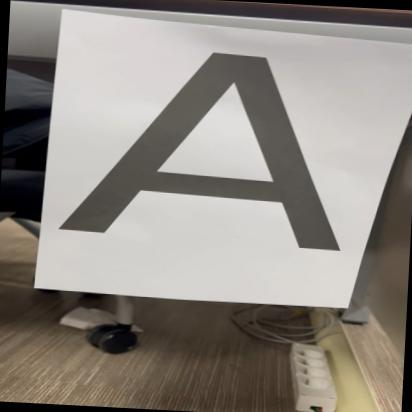seat: (48, 32, 362, 260)
